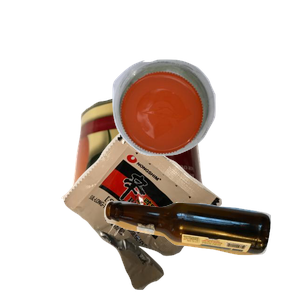glass: (101, 198, 300, 300)
metal: (69, 93, 265, 273)
plastic: (110, 57, 300, 205)
trash: (59, 124, 273, 300)
